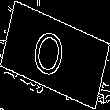O_S: (35, 24, 75, 86)
